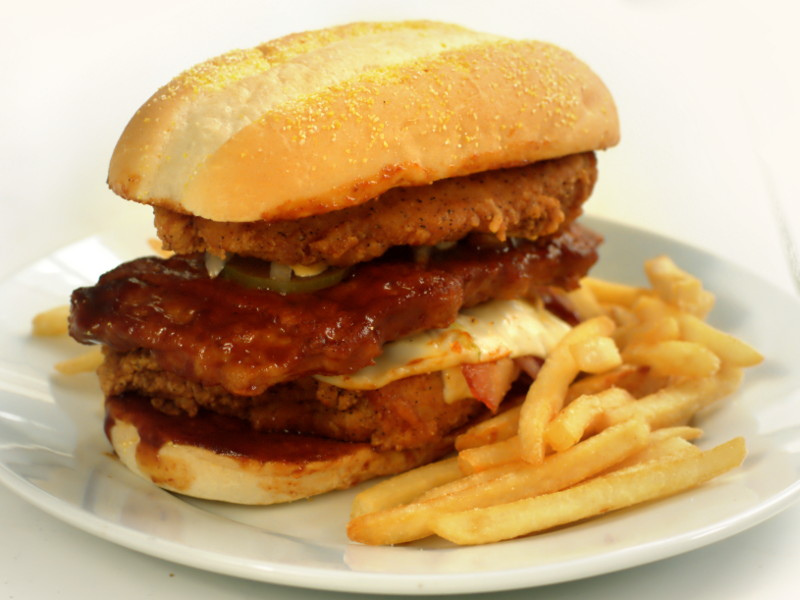slice of bread: (113, 6, 636, 227)
